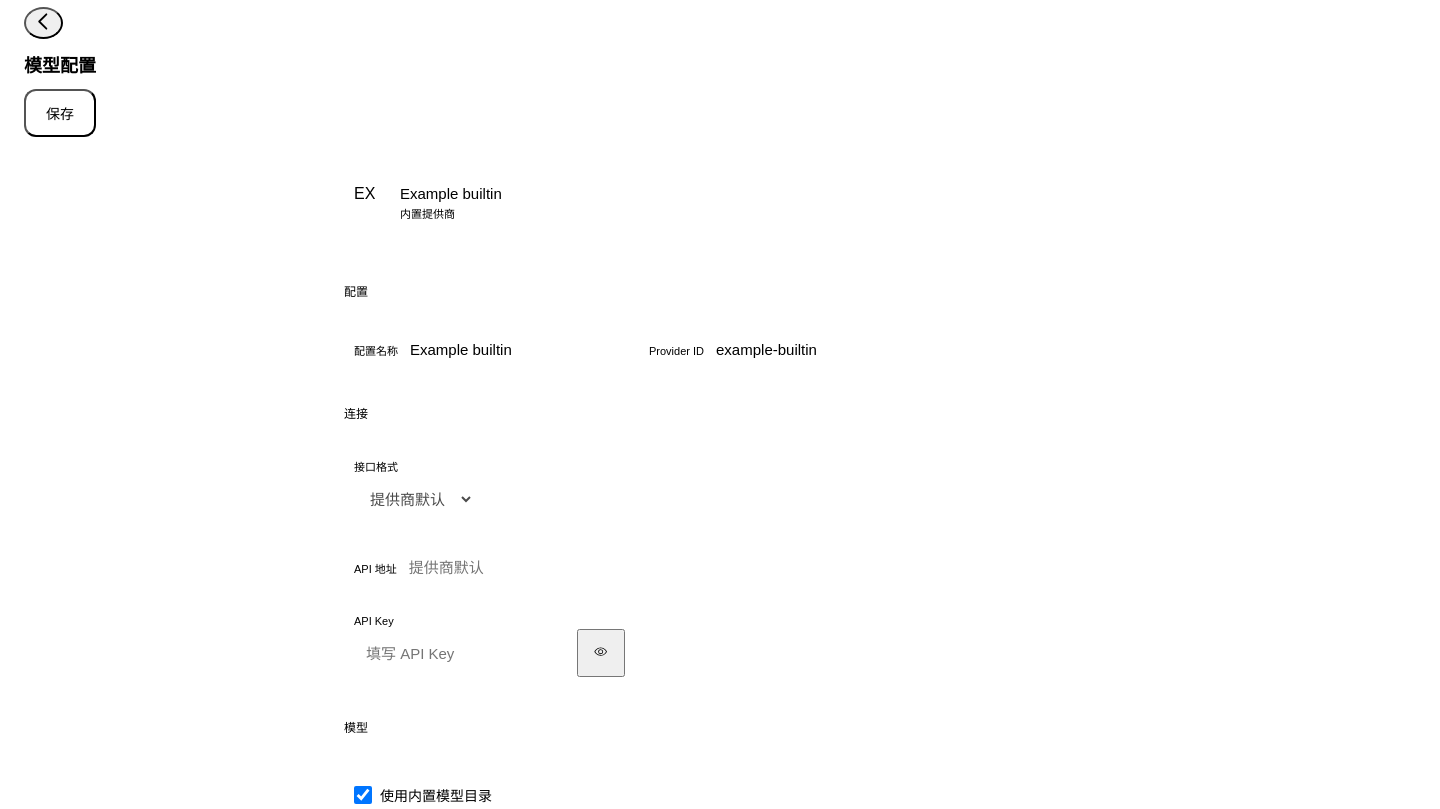
Android model library and configuration actions › retains a new builtin draft and reports a failed directory read without creating a saved configuration
Expected: the field labelled "Provider ID" holds "example-builtin", 704,325 -> 927,373
Click the button named "返回" at (44, 23), box 24,7 -> 63,39
(page scrolled)
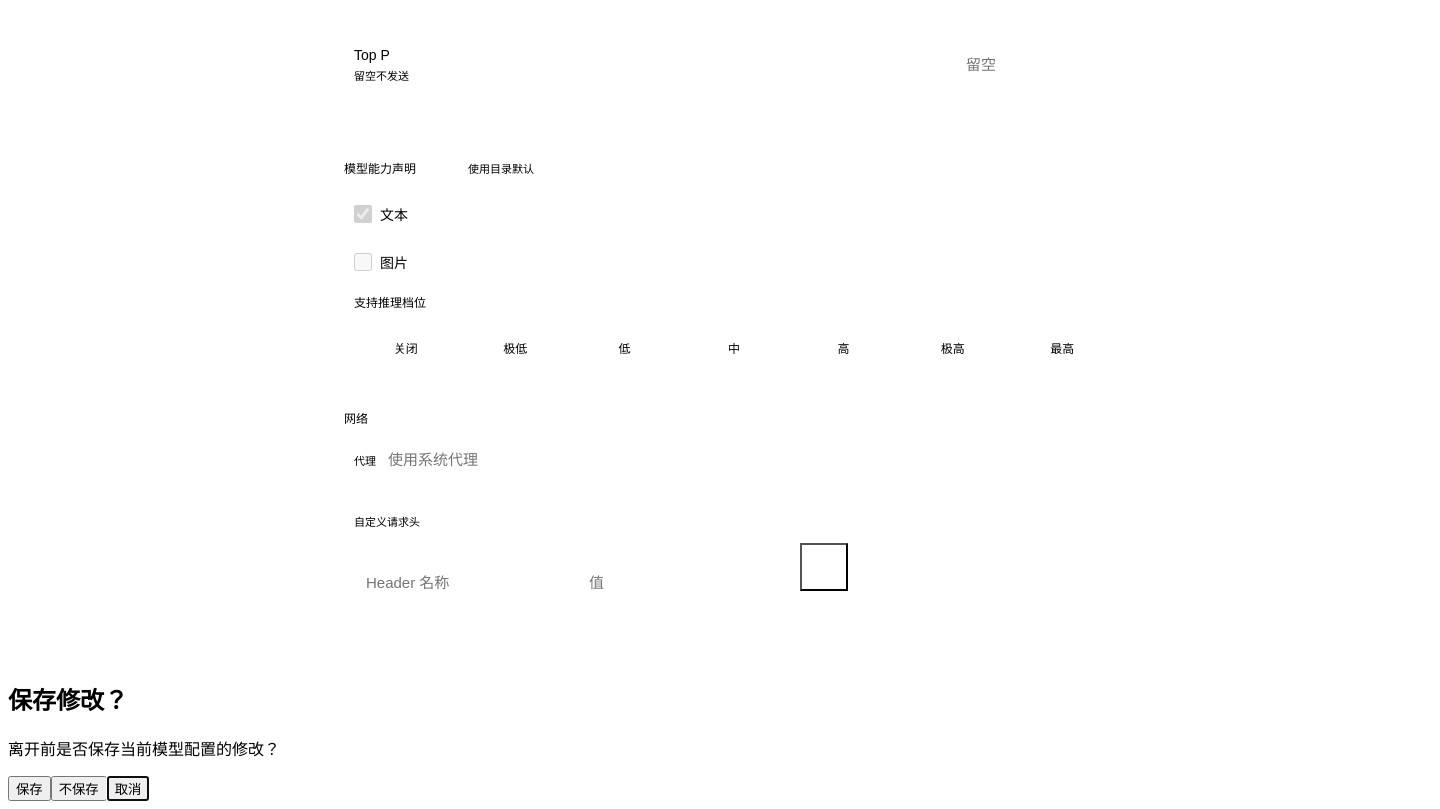
Now the dialog is shown, box 8,687 -> 280,800
